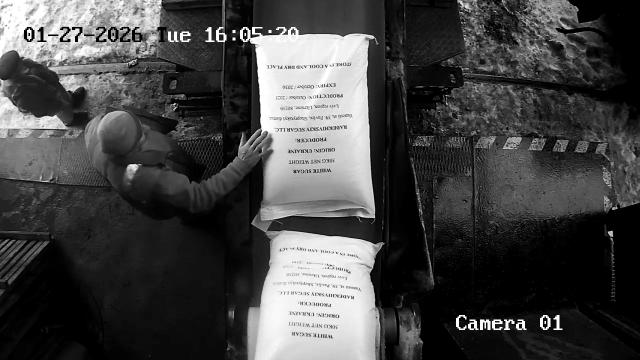bag: (252, 34, 376, 221), (256, 230, 384, 360)
